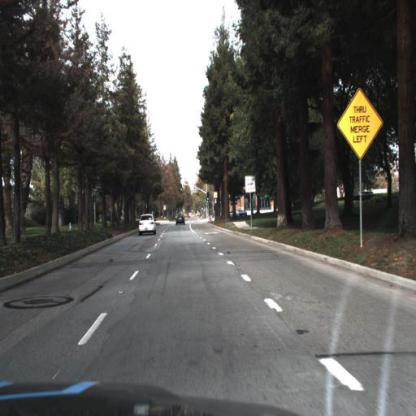car: (137, 212, 159, 238), (175, 213, 187, 229)
